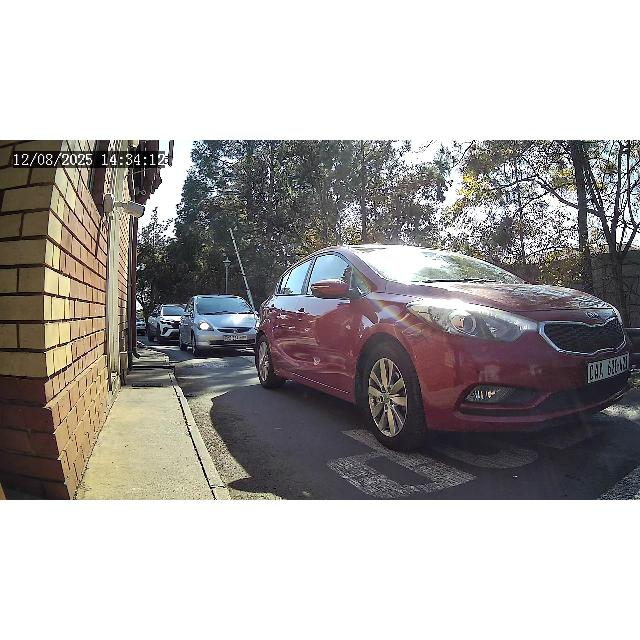car: (250, 244, 638, 446), (178, 294, 258, 356), (146, 303, 180, 345)
plate: (588, 360, 630, 384), (222, 334, 248, 340)
